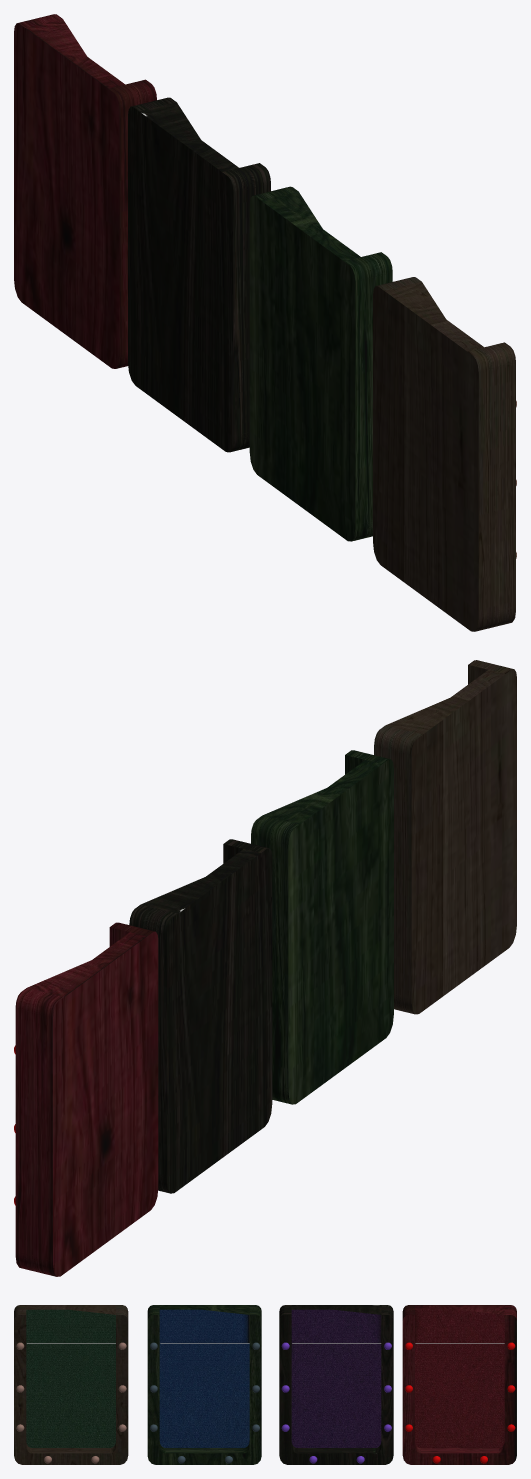
The model's file is boards.fbx.
3 renders of one model, top to bottom at view 1: azimuth 30°, elevation 25°; view 2: azimuth 150°, elevation 25°; view 3: azimuth 270°, elevation 25°, orthographic. The views are drawn at different scales.
Visible parts, largest first — view 1: Board.001, Board.002, Board.003, Board.004; view 2: Board.004, Board.001, Board.002, Board.003; view 3: Board.003, Board.002, Board.001, Board.004.
Part boxes in pixels (x1=…): Board.001: x1=373, y1=277, x2=516, y2=631; Board.002: x1=249, y1=186, x2=392, y2=541; Board.003: x1=128, y1=97, x2=270, y2=452; Board.004: x1=14, y1=14, x2=156, y2=368; Board.004: x1=14, y1=922, x2=158, y2=1276; Board.001: x1=374, y1=660, x2=516, y2=1014; Board.002: x1=251, y1=750, x2=393, y2=1104; Board.003: x1=129, y1=839, x2=272, y2=1193; Board.003: x1=279, y1=1305, x2=393, y2=1464; Board.002: x1=147, y1=1305, x2=261, y2=1464; Board.001: x1=14, y1=1305, x2=128, y2=1464; Board.004: x1=402, y1=1305, x2=516, y2=1464.
Size of the model in its own units: 324 by 1931 by 5870.
Materials: 12 (12 with a texture image).
